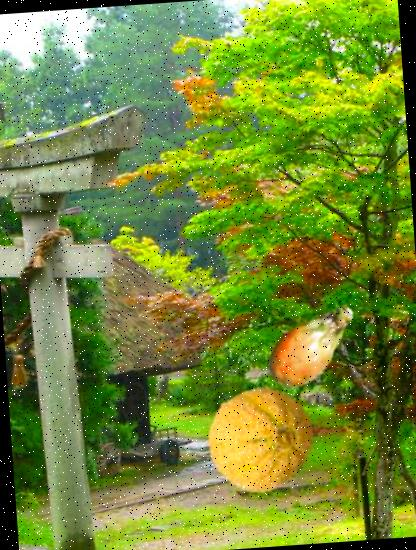Cactus: (256, 289, 370, 402)
Cantaloupe: (202, 380, 318, 496)
